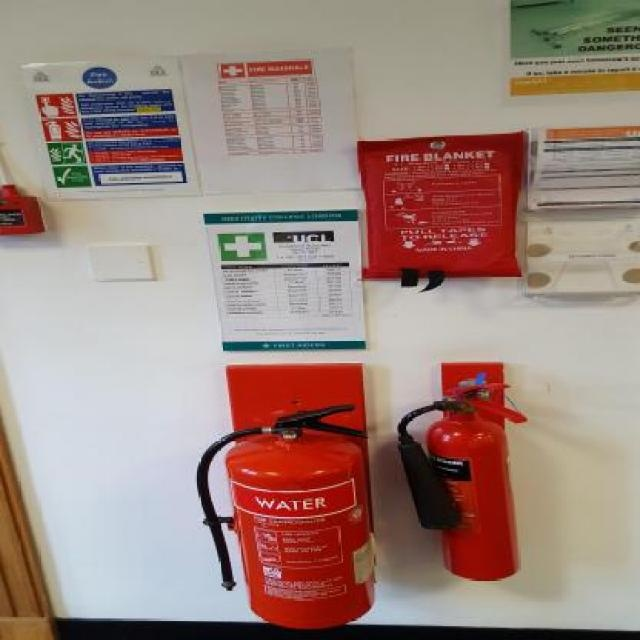fire extinguisher: (195, 404, 376, 630), (398, 383, 527, 580)
